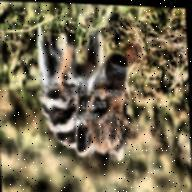boar: (34, 22, 134, 164)
